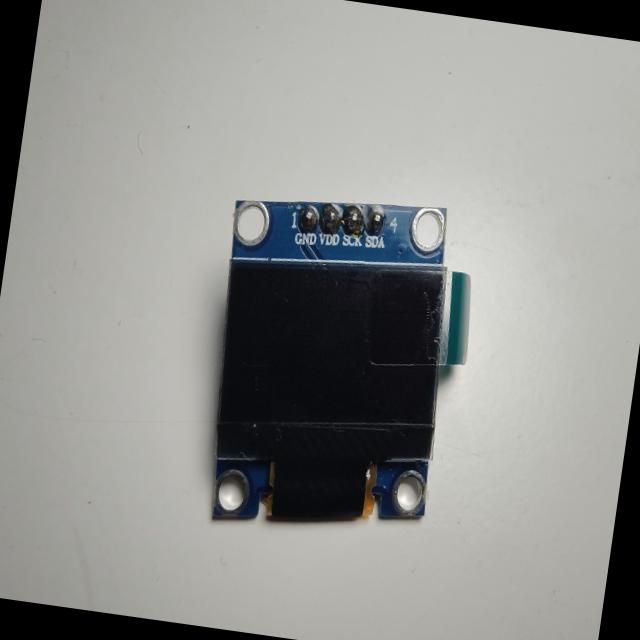oled: (183, 175, 493, 562)
